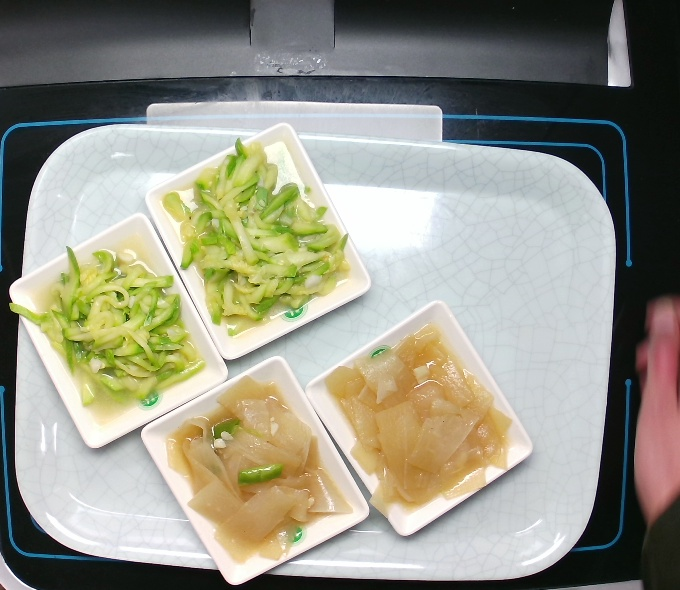wcq-LuoBo: (321, 318, 517, 513), (148, 372, 337, 563)
wcq-NenNanGua: (165, 133, 352, 335), (6, 235, 205, 409)
